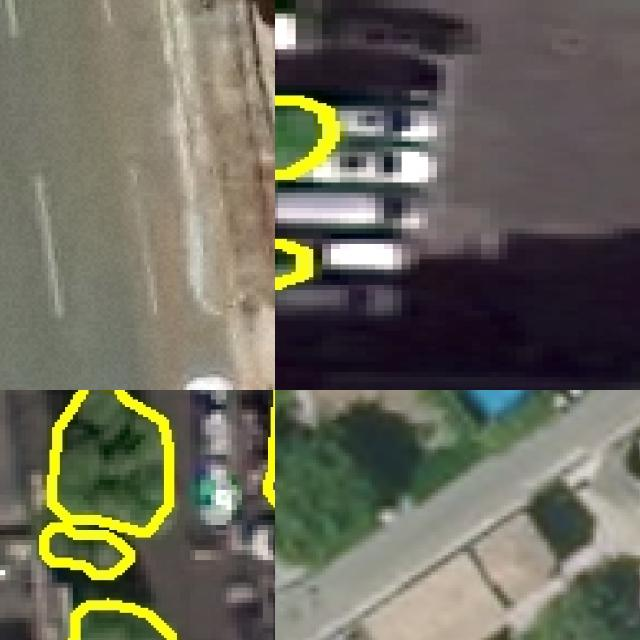trees: (276, 408, 426, 568), (43, 391, 170, 576), (276, 99, 332, 176), (276, 242, 306, 286)
